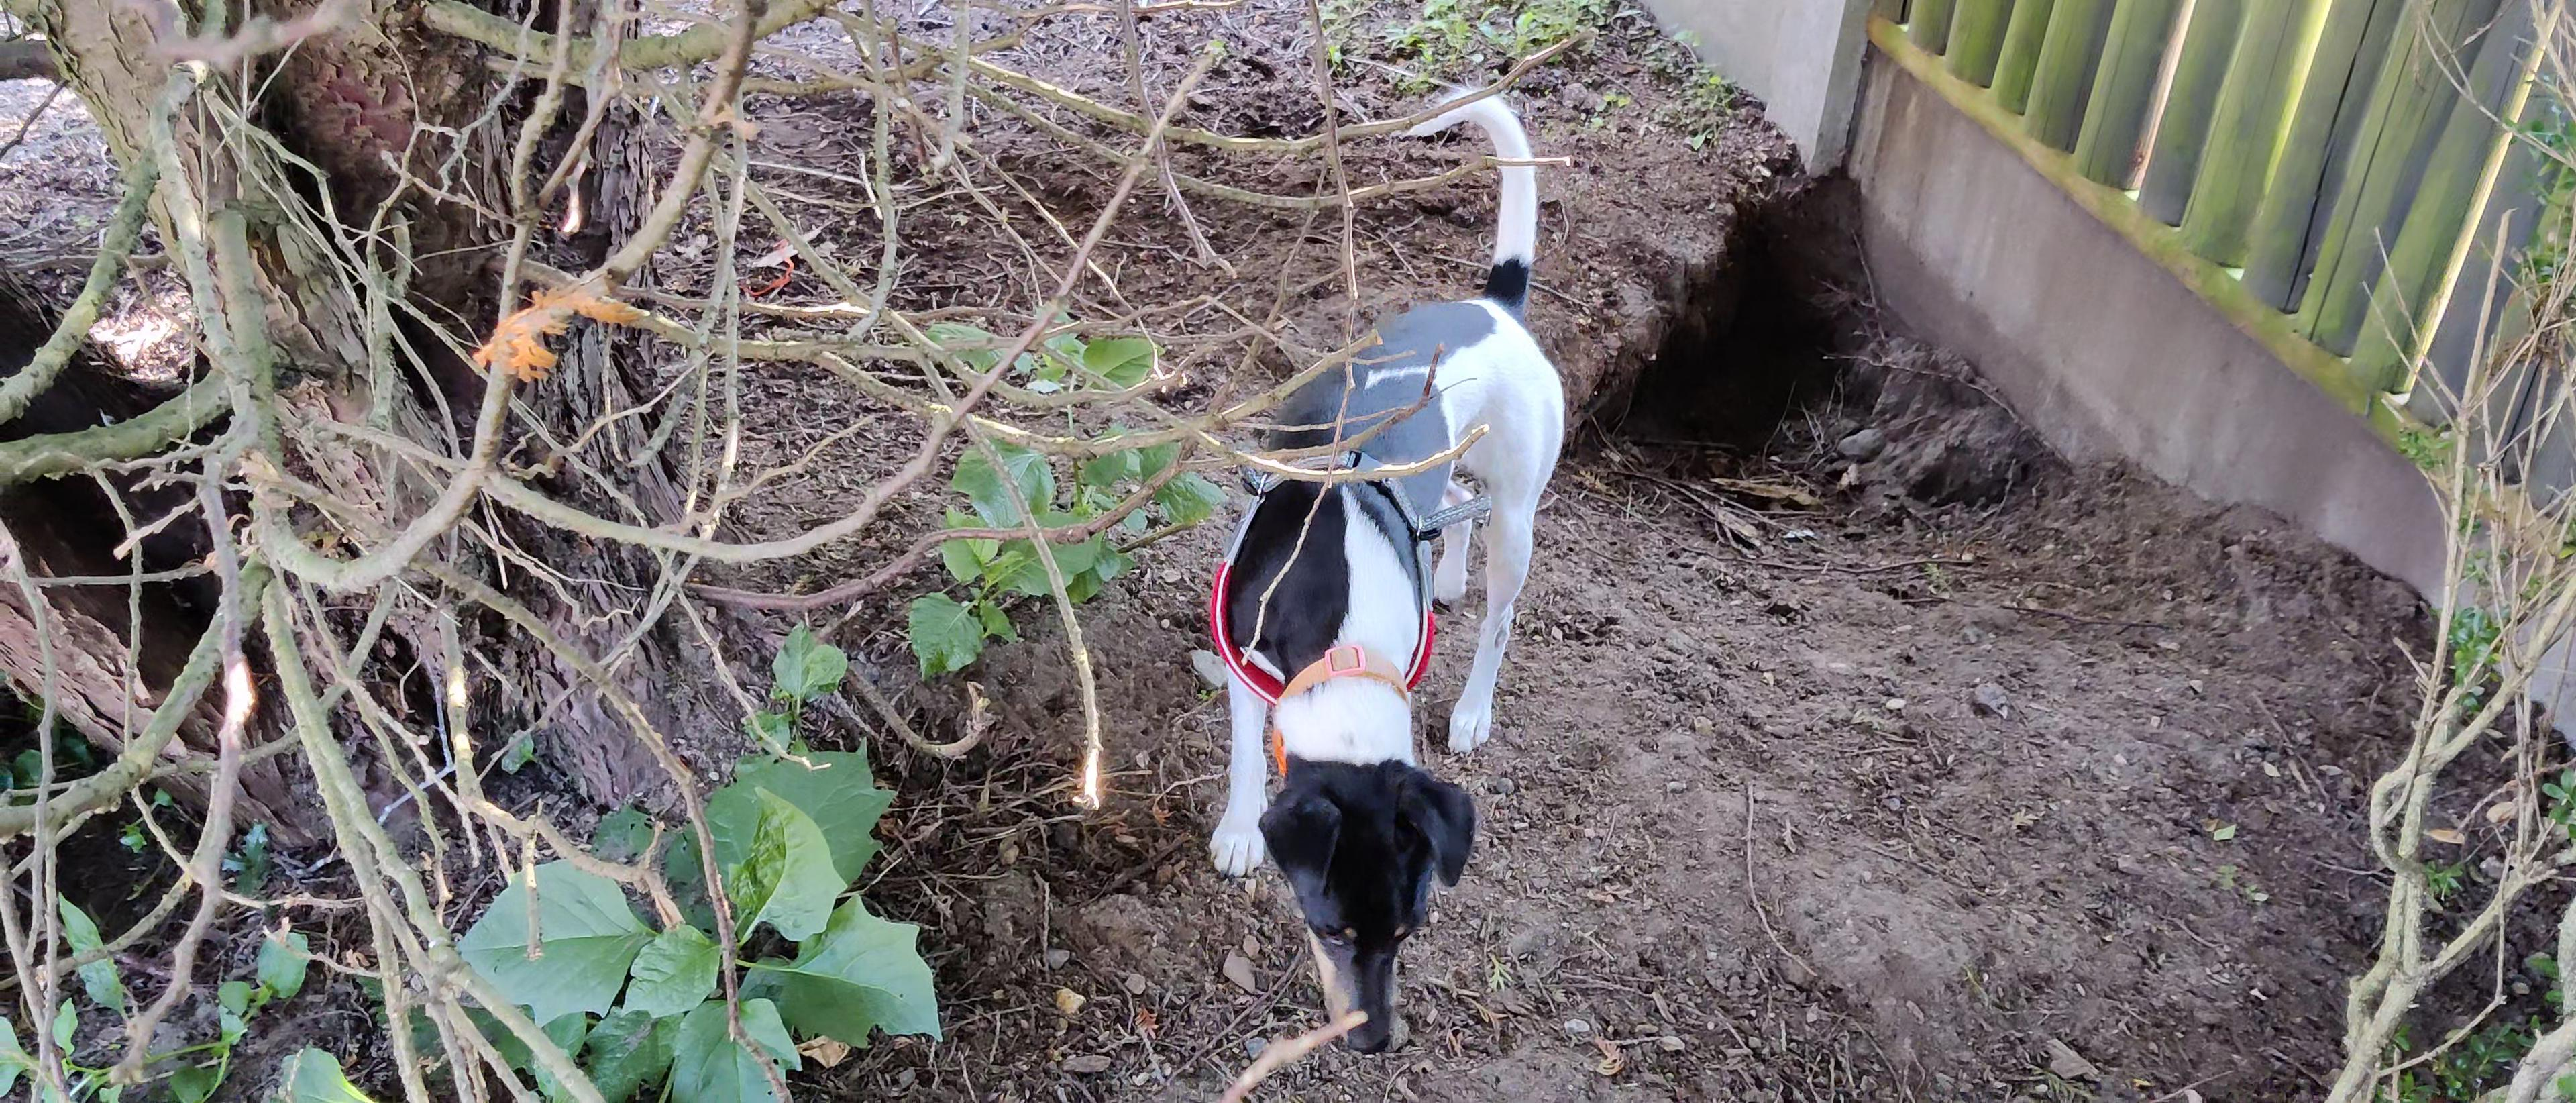Dog: (1166, 69, 1580, 1052)
